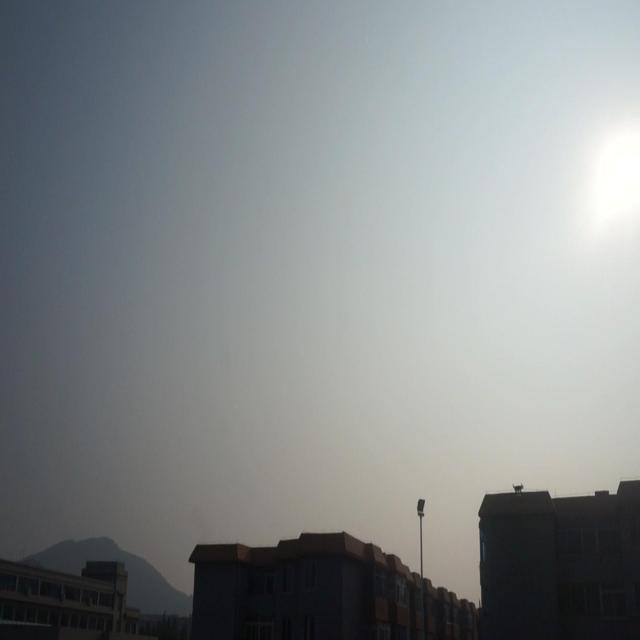UAV: (512, 483, 524, 497)
